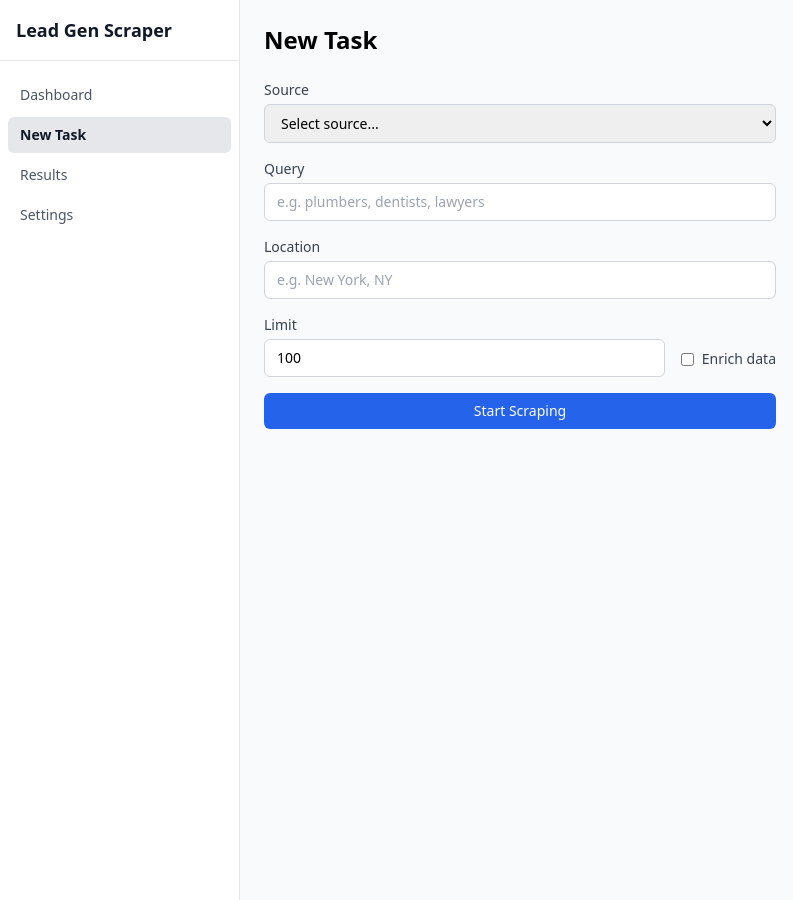
Test case: TaskCreator › validates required fields
Step 1. Click the button "Start Scraping" → x=520, y=411, box top-left (264, 393), bottom-right (776, 429)
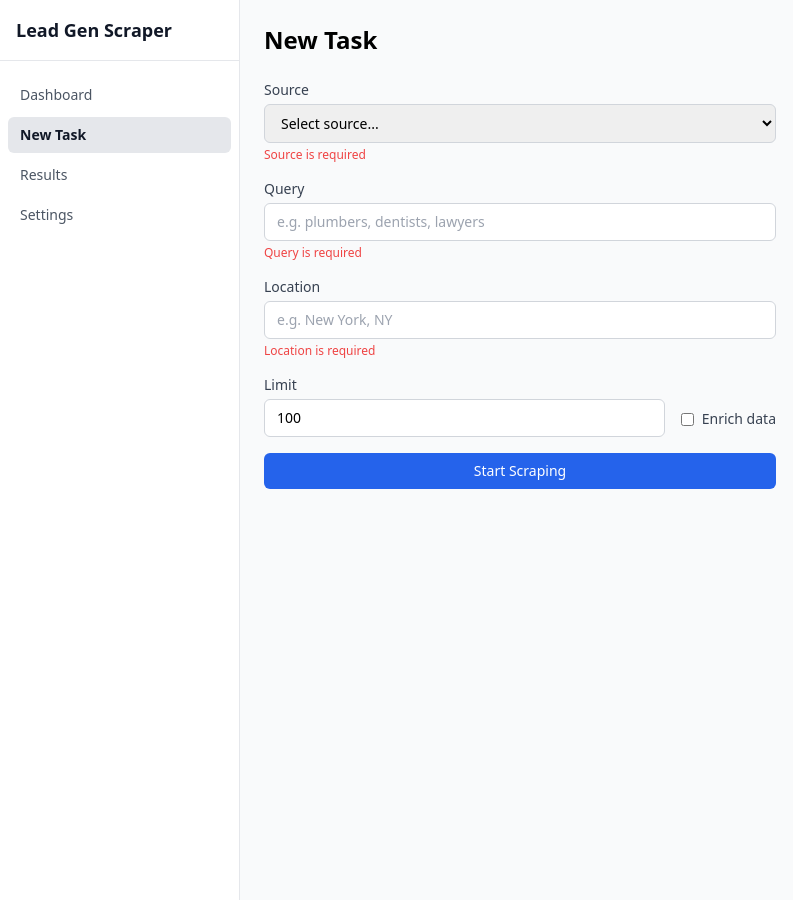
Expected: the text "Source is required" is shown, top-left (264, 146), bottom-right (366, 163)
Expected: the text "Query is required" is shown, top-left (264, 244), bottom-right (362, 261)
Expected: the text "Location is required" is shown, top-left (264, 342), bottom-right (376, 359)
